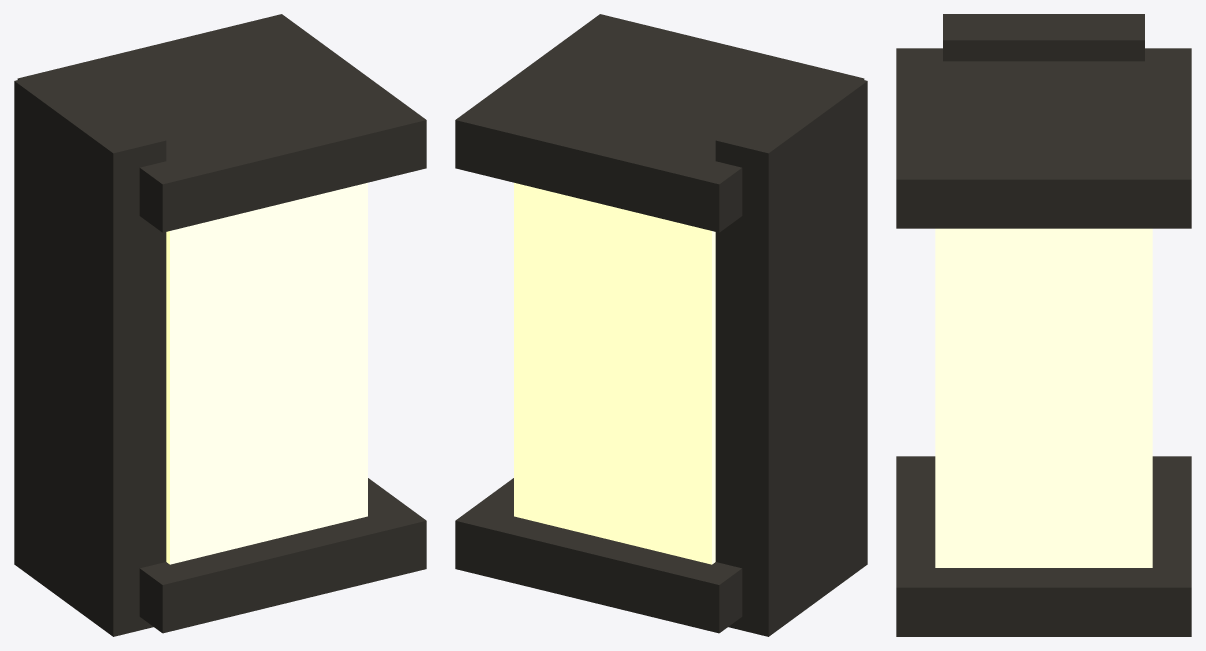
File: light-entry-lantern.gltf
3 renders of one model, left to right at view 1: azimuth 30°, elevation 25°; view 2: azimuth 150°, elevation 25°; view 3: azimuth 270°, elevation 25°, orthographic.
Visible parts, largest first — view 1: Entry lantern wall plate, Entry lantern opal body, Entry lantern cap (×2); view 2: Entry lantern wall plate, Entry lantern opal body, Entry lantern cap (×2); view 3: Entry lantern cap (×2), Entry lantern opal body, Entry lantern wall plate.
Boxes of the visible parts, x1,y1,x2,y2 form: Entry lantern wall plate: (14,68,166,636); Entry lantern opal body: (166,182,367,564); Entry lantern cap (×2): (17,14,426,633); Entry lantern wall plate: (715,68,867,636); Entry lantern opal body: (514,182,715,564); Entry lantern cap (×2): (455,14,864,633); Entry lantern cap (×2): (896,48,1191,636); Entry lantern opal body: (935,228,1152,567); Entry lantern wall plate: (943,14,1144,61).
Size of the model in its own units: 0.22 by 0.35 by 0.19.
